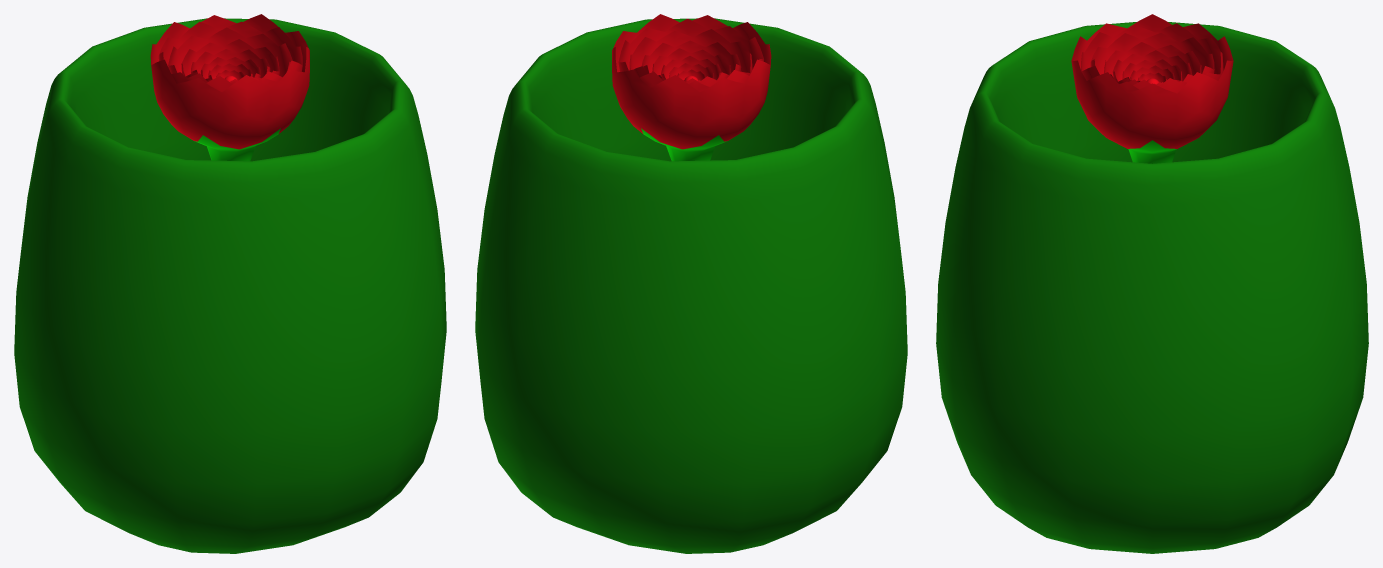
File: VaseGreen.glb
3 renders of one model, left to right at view 1: azimuth 30°, elevation 25°; view 2: azimuth 150°, elevation 25°; view 3: azimuth 270°, elevation 25°, orthographic.
Visible parts, largest first — view 1: VaseGreen; view 2: VaseGreen; view 3: VaseGreen.
Part boxes in pixels (box(x1,y1,x2,y2)): VaseGreen: box(14, 14, 446, 553); VaseGreen: box(475, 14, 907, 553); VaseGreen: box(936, 14, 1368, 553).
Bounding box in the file's own units: 0.3982 × 0.4801 × 0.3982.
